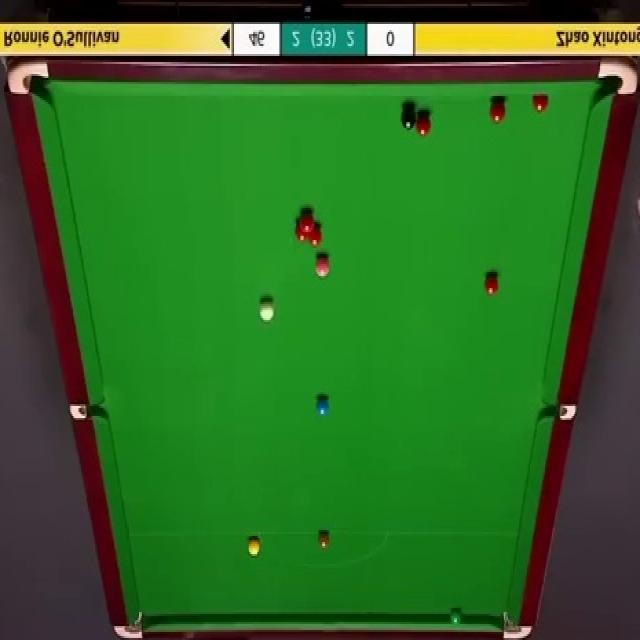black-ball: (402, 103, 416, 132)
blue-ball: (317, 394, 331, 416)
brown-ball: (318, 532, 330, 552)
green-ball: (448, 610, 462, 627)
pink-ball: (314, 252, 332, 279)
red-ball: (489, 101, 507, 126), (300, 207, 314, 235), (485, 273, 501, 297), (416, 113, 430, 138), (308, 227, 323, 250), (532, 95, 550, 114), (296, 222, 309, 245)
white-ball: (258, 295, 276, 323)
yellow-ball: (247, 536, 261, 556)
